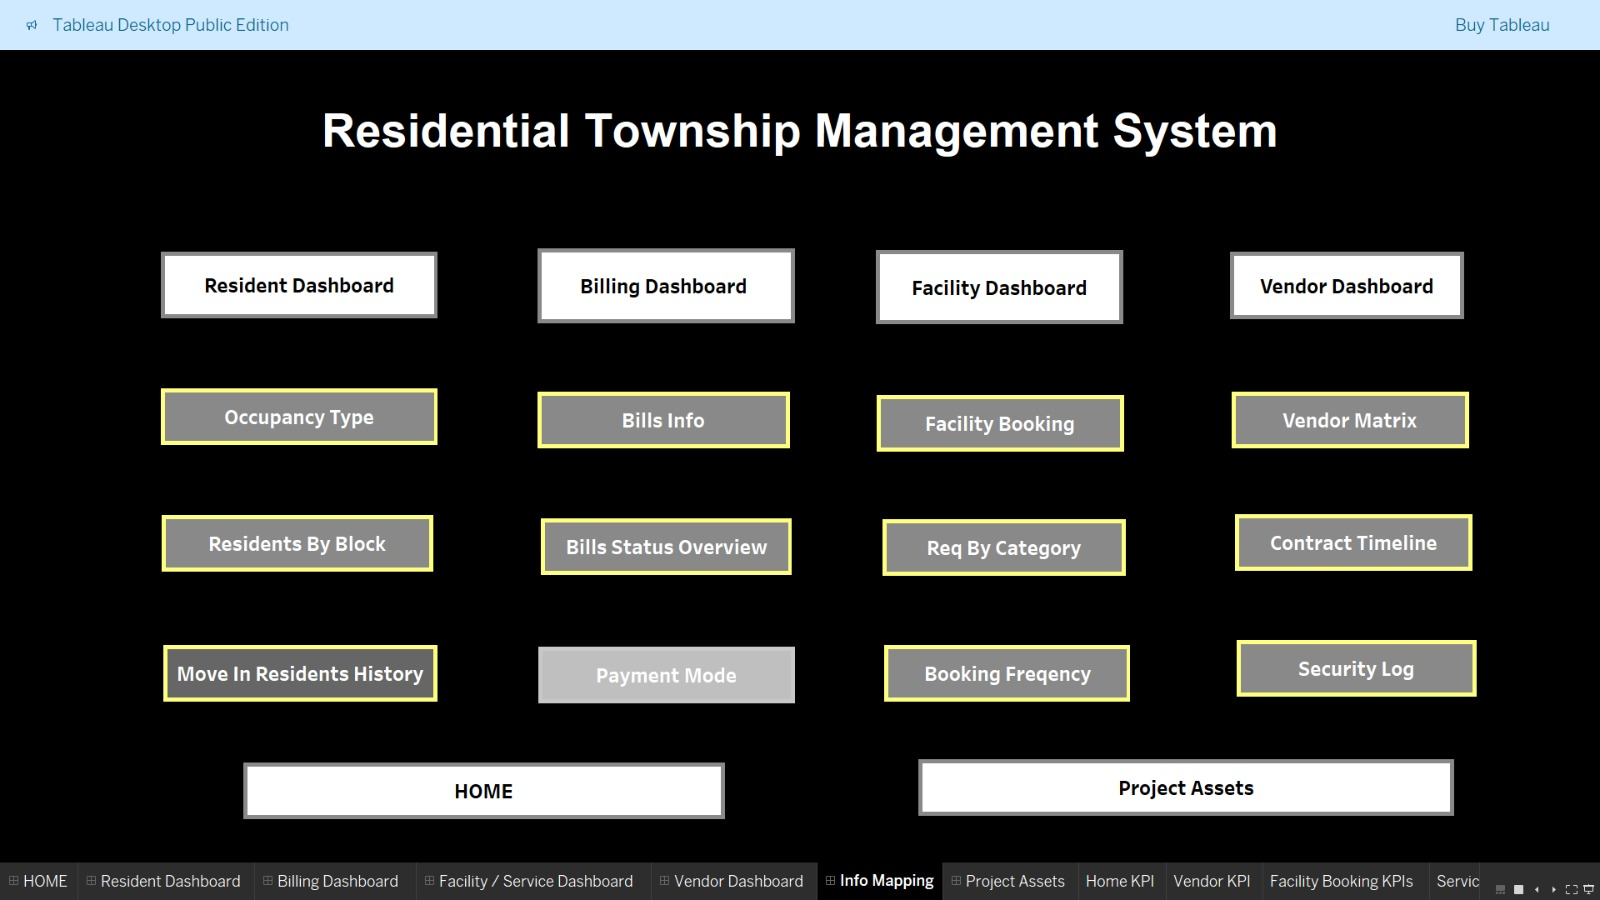

Layout of this report page (visuals, bound fields, positions):
{"tool":"tableau","page":{"name":"Info Mapping","canvas":[1000,1000],"units":"permille","ordinal":3},"visuals":[{"type":"title","box":[4.2,8.2,991.7,182.6]},{"type":"image","box":[4.2,190.8,495.4,801]},{"type":"image","box":[499.5,190.8,496.3,801]},{"type":"dashboard-object","box":[336,244,160.8,92.5]},{"type":"dashboard-object","box":[547.4,246.7,154.6,91.2]},{"type":"dashboard-object","box":[100.4,248,173.3,81.8]},{"type":"dashboard-object","box":[768.7,248,146.5,83.1]},{"type":"dashboard-object","box":[100.4,416.9,173.3,69.7]},{"type":"dashboard-object","box":[336,420.9,157.7,69.7]},{"type":"dashboard-object","box":[770,420.9,148.4,69.7]},{"type":"dashboard-object","box":[548,424.9,154.6,69.7]},{"type":"dashboard-object","box":[771.8,571.1,148.4,69.7]},{"type":"dashboard-object","box":[101,572.4,169.6,69.7]},{"type":"dashboard-object","box":[337.9,576.4,157.1,69.7]},{"type":"dashboard-object","box":[551.8,577.8,152.1,69.7]},{"type":"dashboard-object","box":[773.1,726.5,150.2,69.7]},{"type":"dashboard-object","box":[102.2,731.9,171.5,69.7]},{"type":"dashboard-object","box":[552.4,731.9,154,69.7]},{"type":"dashboard-object","box":[336.7,734.6,160.2,69.7]},{"type":"dashboard-object","box":[574.2,872.6,334.8,69.7]},{"type":"dashboard-object","box":[152.1,876.7,301.1,69.7]}]}

Visuals, with their boxes on the dashboard's canvas, which has no fixed pixel size, in thousandths of its width and height (x1, y1, x2, y2). These are canvas units, not pixel positions in the 1600x900 screenshot, which may show the page scaled, cropped or inside an application window:
title: Rect(4, 8, 996, 191)
image: Rect(4, 191, 500, 992)
image: Rect(500, 191, 996, 992)
dashboard-object: Rect(336, 244, 497, 336)
dashboard-object: Rect(547, 247, 702, 338)
dashboard-object: Rect(100, 248, 274, 330)
dashboard-object: Rect(769, 248, 915, 331)
dashboard-object: Rect(100, 417, 274, 487)
dashboard-object: Rect(336, 421, 494, 491)
dashboard-object: Rect(770, 421, 918, 491)
dashboard-object: Rect(548, 425, 703, 495)
dashboard-object: Rect(772, 571, 920, 641)
dashboard-object: Rect(101, 572, 271, 642)
dashboard-object: Rect(338, 576, 495, 646)
dashboard-object: Rect(552, 578, 704, 648)
dashboard-object: Rect(773, 726, 923, 796)
dashboard-object: Rect(102, 732, 274, 802)
dashboard-object: Rect(552, 732, 706, 802)
dashboard-object: Rect(337, 735, 497, 804)
dashboard-object: Rect(574, 873, 909, 942)
dashboard-object: Rect(152, 877, 453, 946)
